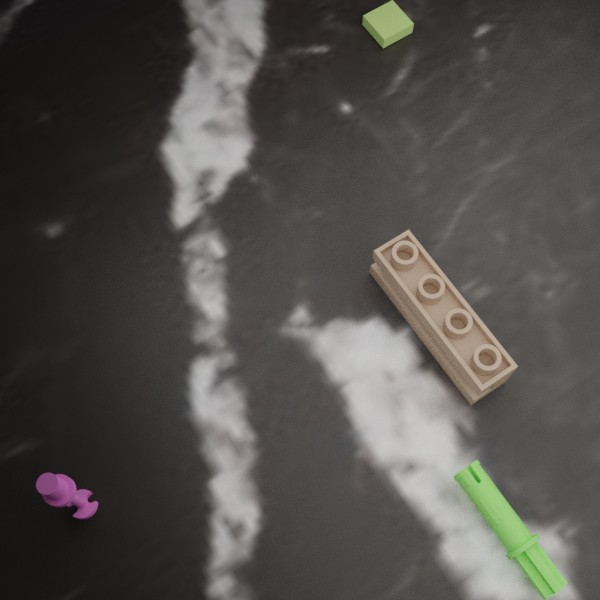lego: (369, 229, 518, 405), (453, 459, 567, 600), (36, 472, 98, 519), (362, 0, 413, 48)
